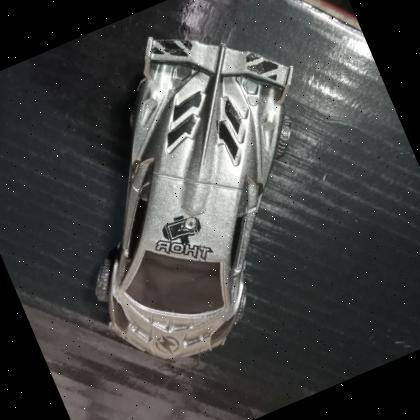Car: (94, 35, 293, 359)
